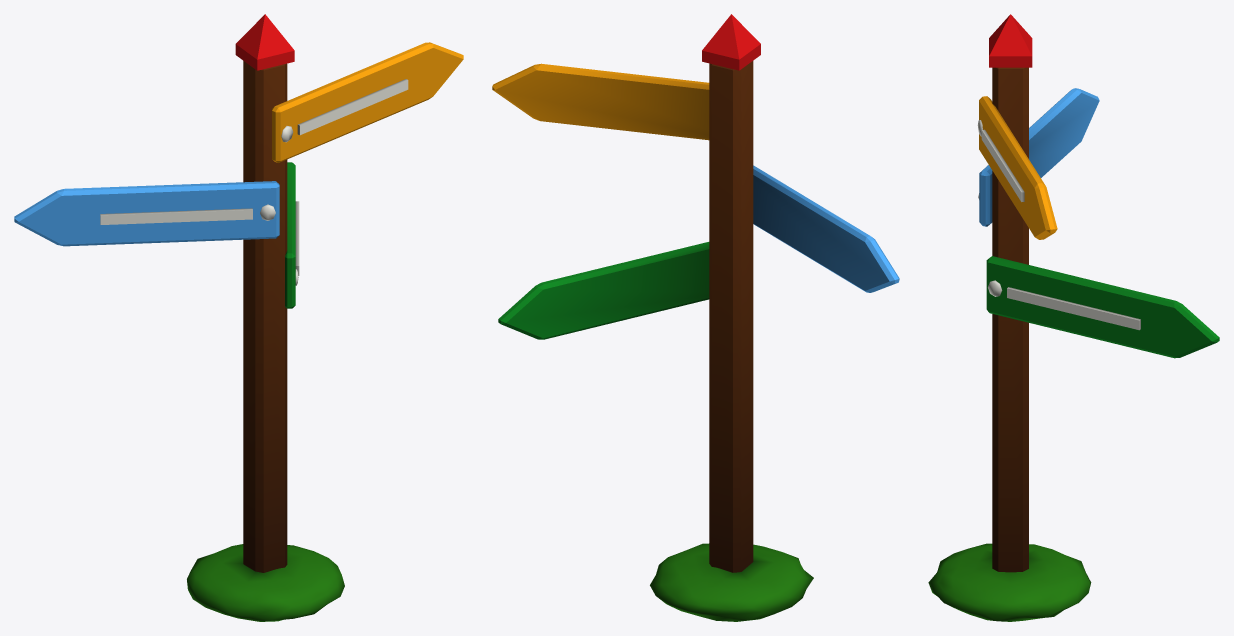
The model's file is Sign_Arrow.fbx.
3 views of the same model, side by side, from view 1: azimuth 30°, elevation 25°; view 2: azimuth 150°, elevation 25°; view 3: azimuth 270°, elevation 25° (orthographic).
Visible parts, largest first — view 1: Sign_Arrow; view 2: Sign_Arrow; view 3: Sign_Arrow.
Boxes of the visible parts, x1,y1,x2,y2 form: Sign_Arrow: (14, 14, 463, 621); Sign_Arrow: (492, 14, 899, 621); Sign_Arrow: (928, 14, 1219, 621).
Size of the model in its own units: 1.61 by 2.12 by 0.9513.
